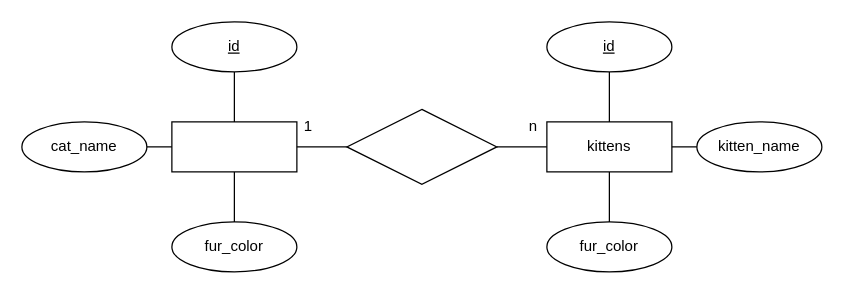
The diagram is 844 pixels wide and 294 high, and some of its shapes have lost their labels. The centre of each missing label's shape, as x and y in pixels:
"catmoms" belongs at point 234,146.
"has a" belongs at point 421,146.
